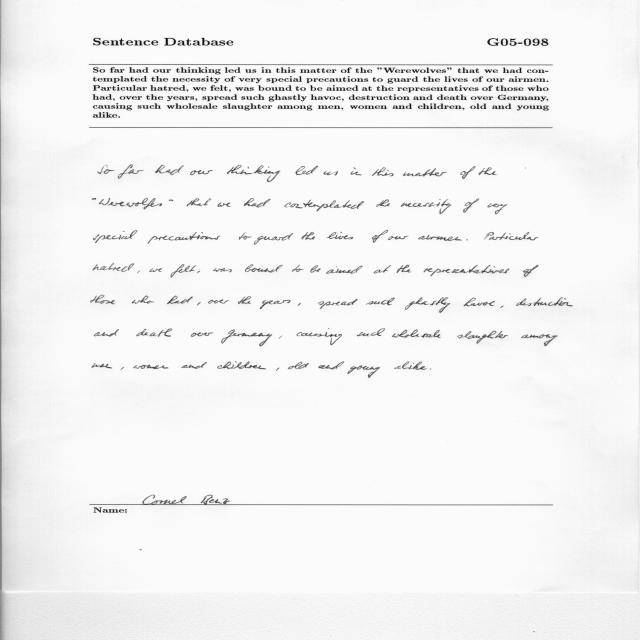word: (424, 265, 510, 276), (227, 165, 280, 182), (284, 200, 364, 211), (221, 330, 272, 347), (148, 232, 220, 244), (401, 199, 451, 214), (405, 297, 450, 313), (99, 199, 162, 210), (457, 331, 508, 344), (297, 332, 342, 345), (94, 230, 138, 243), (516, 297, 573, 306), (254, 233, 293, 245), (521, 334, 558, 346), (392, 329, 441, 338), (484, 232, 539, 240), (347, 365, 380, 378), (318, 299, 358, 309), (403, 168, 447, 177), (217, 362, 266, 370), (93, 263, 134, 272), (118, 165, 144, 179), (171, 264, 196, 278), (245, 264, 283, 273), (136, 328, 172, 337), (326, 266, 363, 274), (155, 165, 184, 175), (260, 300, 291, 309), (464, 298, 495, 307), (418, 235, 462, 241), (394, 362, 427, 370), (244, 199, 271, 208), (463, 198, 479, 213), (357, 329, 385, 337), (487, 204, 507, 215), (187, 198, 211, 207), (91, 295, 115, 304), (460, 166, 476, 179), (327, 232, 353, 240), (372, 230, 388, 243), (167, 296, 193, 304), (319, 362, 345, 370), (296, 166, 319, 175), (366, 298, 395, 305), (94, 329, 119, 337), (523, 265, 539, 277), (372, 168, 393, 177), (132, 296, 154, 304), (182, 362, 207, 369), (98, 165, 115, 174), (374, 265, 391, 274), (288, 362, 309, 369), (479, 167, 497, 175), (133, 365, 169, 369), (190, 170, 214, 175), (191, 332, 214, 337), (376, 199, 390, 207), (397, 265, 411, 273), (239, 232, 252, 240), (302, 232, 315, 240), (238, 296, 251, 304), (92, 364, 112, 369), (292, 264, 304, 272), (351, 168, 362, 176), (310, 265, 321, 273), (388, 236, 409, 240), (208, 300, 229, 304), (213, 268, 232, 272), (217, 202, 231, 207), (323, 172, 338, 176), (149, 268, 162, 272), (197, 302, 201, 305), (297, 303, 301, 306), (278, 336, 282, 339), (120, 367, 124, 370), (276, 367, 279, 371), (137, 271, 140, 274), (92, 198, 96, 200), (169, 199, 173, 201), (500, 306, 504, 308), (197, 271, 200, 273), (466, 239, 468, 241), (430, 369, 431, 370)
